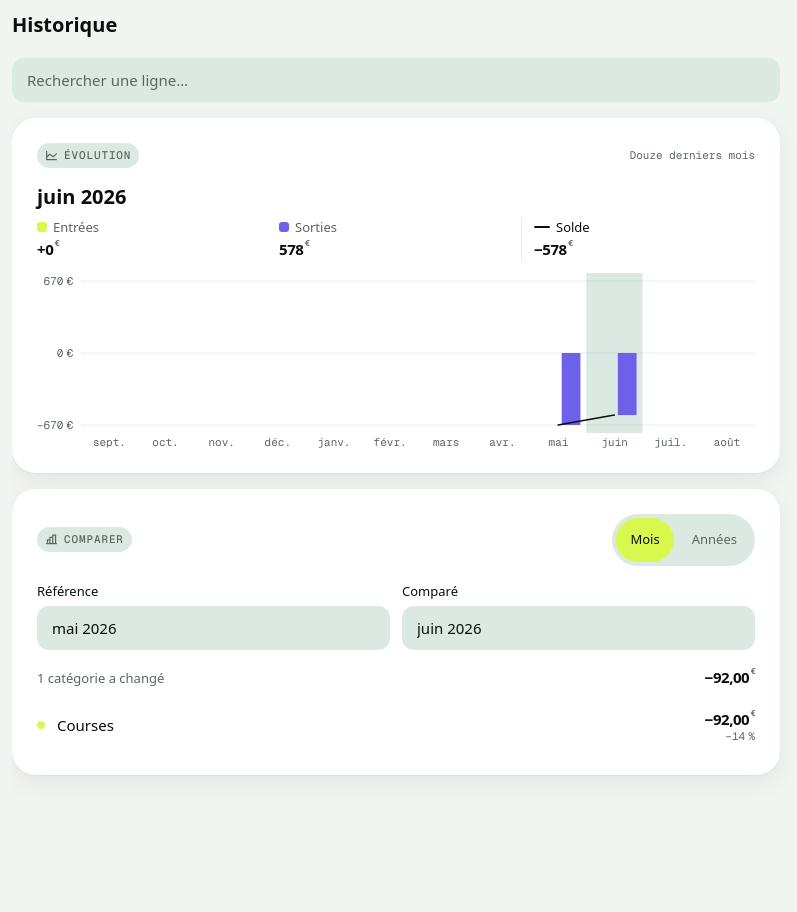
l’écran Historique › ne pose la surface des résultats qu’une fois qu’on cherche, et en tête
The image size is (797, 912).
Check: the number of elements with class "tile" is 2, box [12, 118, 780, 473]; [12, 489, 780, 775]
Type "edf" into the search field at (396, 80), box [12, 58, 780, 102]
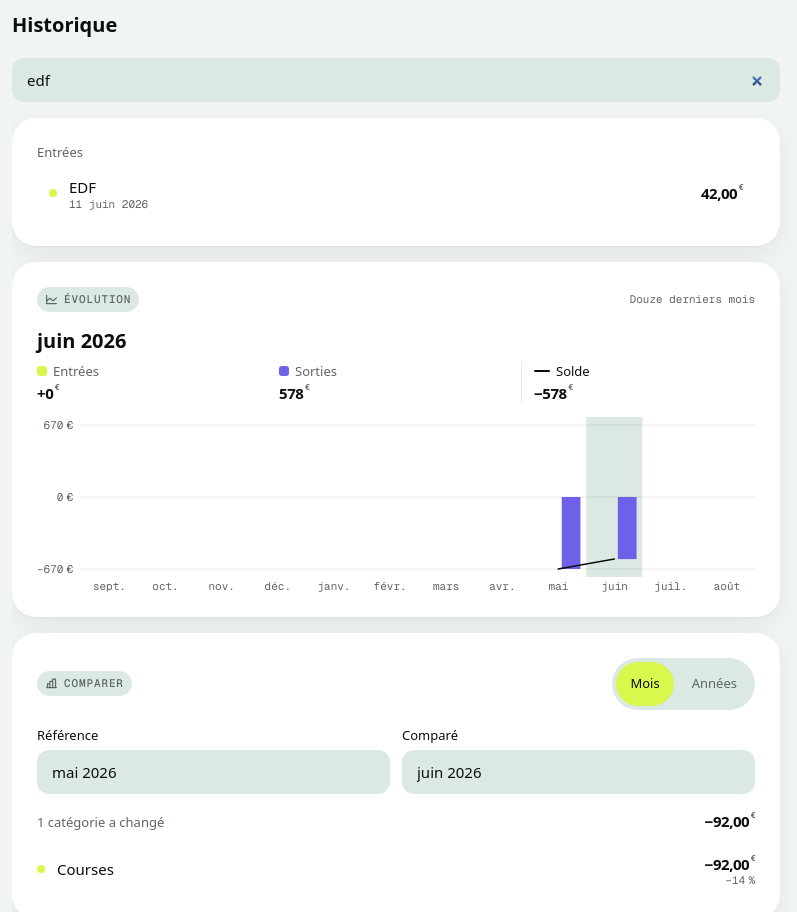
Check: the text "Évolution" is shown, box [37, 287, 139, 312]
Check: the text "EDF" is shown, box [69, 177, 96, 197]
